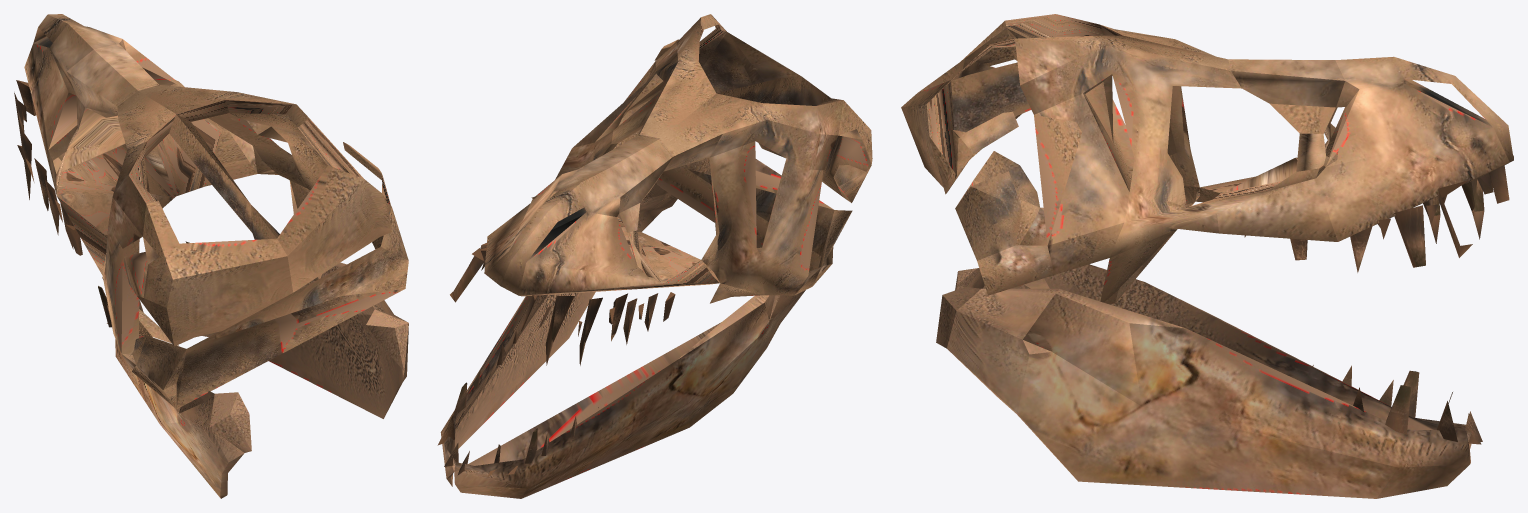
File: dino  skull2.fbx
3 views of the same model, side by side, from view 1: azimuth 30°, elevation 25°; view 2: azimuth 150°, elevation 25°; view 3: azimuth 270°, elevation 25° (orthographic). The views are drawn at different scales.
Parts seen in each view (by area): view 1: _Tyrannosaurus_Rex_Skull_Fossil_v1_L1:_Tyrannosaurus_Rex_Sku; view 2: _Tyrannosaurus_Rex_Skull_Fossil_v1_L1:_Tyrannosaurus_Rex_Sku; view 3: _Tyrannosaurus_Rex_Skull_Fossil_v1_L1:_Tyrannosaurus_Rex_Sku.
Boxes of the visible parts, x1,y1,x2,y2 form: _Tyrannosaurus_Rex_Skull_Fossil_v1_L1:_Tyrannosaurus_Rex_Sku: [14, 14, 408, 498]; _Tyrannosaurus_Rex_Skull_Fossil_v1_L1:_Tyrannosaurus_Rex_Sku: [437, 14, 872, 498]; _Tyrannosaurus_Rex_Skull_Fossil_v1_L1:_Tyrannosaurus_Rex_Sku: [901, 14, 1513, 498].
Bounding box in the file's own units: 30.08 × 41.6 × 52.63.
